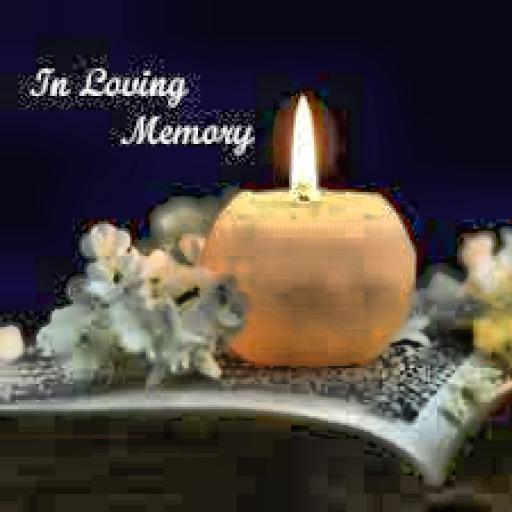fire: (284, 87, 326, 199)
